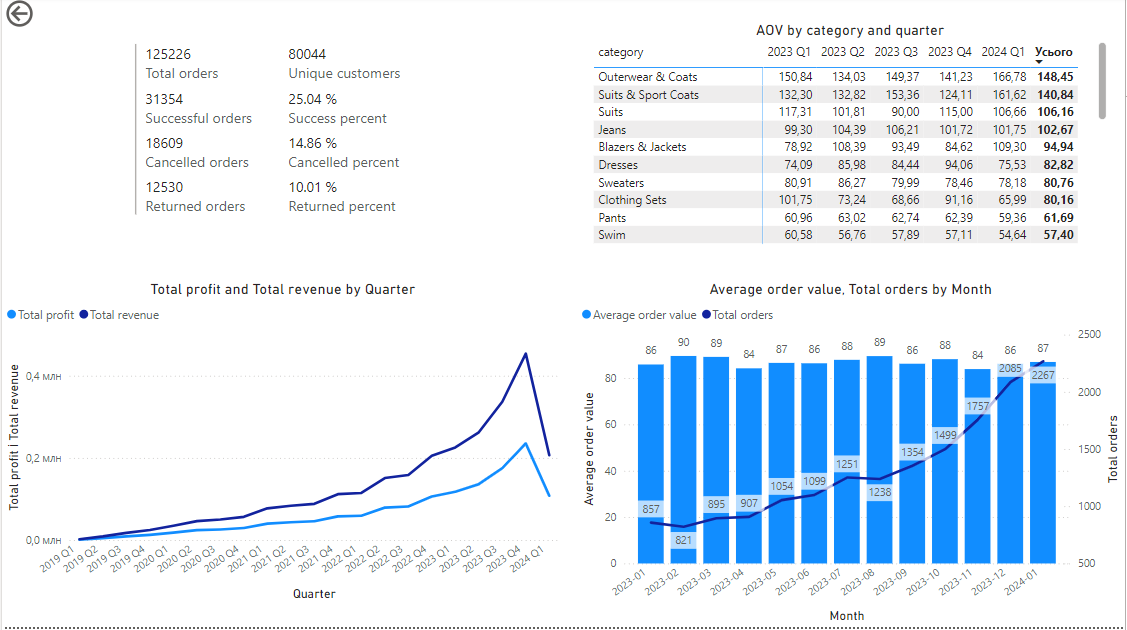

What the dashboard file says about the page in this screenshot:
{"tool":"powerbi","page":{"name":"General Metrics","canvas":[1280,720],"ordinal":0},"visuals":[{"type":"actionButton","box":[0,0,100,40],"z":0},{"type":"multiRowCard","fields":{"Values":["Sum(01_01_total orders.total_orders)","Sum(01_01_total orders.unique_customers)","Sum(01_01_total orders.successful_orders)","01_01_total orders.success_percent","Sum(01_01_total orders.cancelled_orders)","01_01_total orders.cancelled_percent","Sum(01_01_total orders.returned_orders)","01_01_total orders.returned_percent"]},"box":[146.8,49.9,347.8,216.7],"z":1000},{"type":"lineChart","title":"Total profit and Total revenue by Quarter","fields":{"Category":["01_02_revenue_profit.quarter"],"Y":["Max(01_02_revenue_profit.total_profit)","Max(01_02_revenue_profit.total_revenue)"]},"box":[0,323.6,640,370.6],"z":2000},{"type":"lineClusteredColumnComboChart","title":"Average order value, Total orders by Month","fields":{"Category":["01_03_avg_order_value_month.month"],"Y":["Max(01_03_avg_order_value_month.avg_order_value)"],"Y2":["Sum(01_03_avg_order_value_month.total_orders)"]},"box":[655.7,323.6,624.3,396.3],"z":3000},{"type":"pivotTable","title":"AOV by category and quarter","fields":{"Rows":["01_04_AOV_quarter_category.category"],"Columns":["01_04_AOV_quarter_category.quarter"],"Values":["Avg(01_04_AOV_quarter_category.avg_order_value)"]},"box":[669.9,28.5,594.4,259.4],"z":3001}]}

Visuals, with their boxes in screenshot pixels (x1, y1, x2, y2), scaled from the page's 1280x720 canvas onto the 1127x630 screenshot:
actionButton: bbox=[0, 0, 88, 35]
multiRowCard - Sum(01_01_total orders.total_orders) x Sum(01_01_total orders.unique_customers): bbox=[129, 44, 435, 233]
"Total profit and Total revenue by Quarter" lineChart: bbox=[0, 283, 564, 607]
"Average order value, Total orders by Month" lineClusteredColumnComboChart: bbox=[577, 283, 1126, 629]
"AOV by category and quarter" pivotTable: bbox=[590, 25, 1113, 252]
